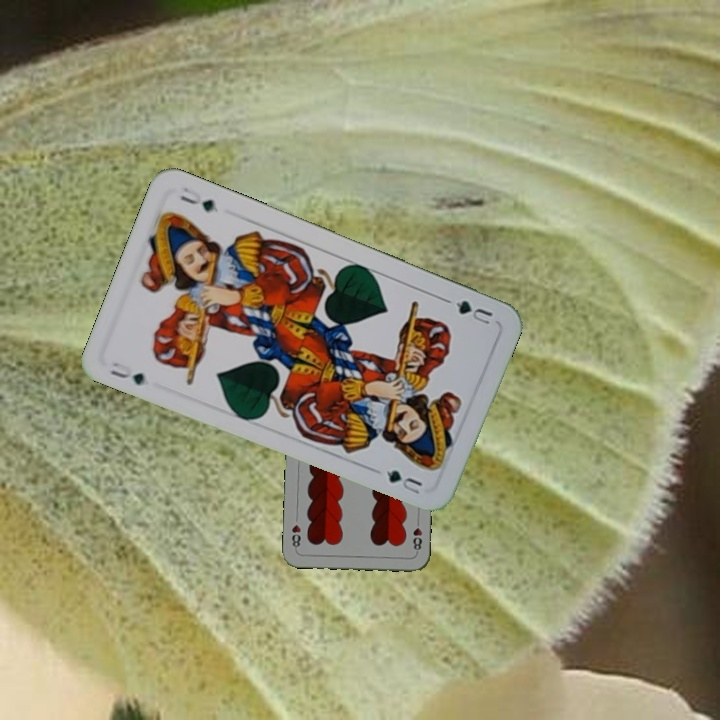GU: (451, 296, 496, 327), (106, 358, 147, 388)
H8: (409, 515, 424, 555)
